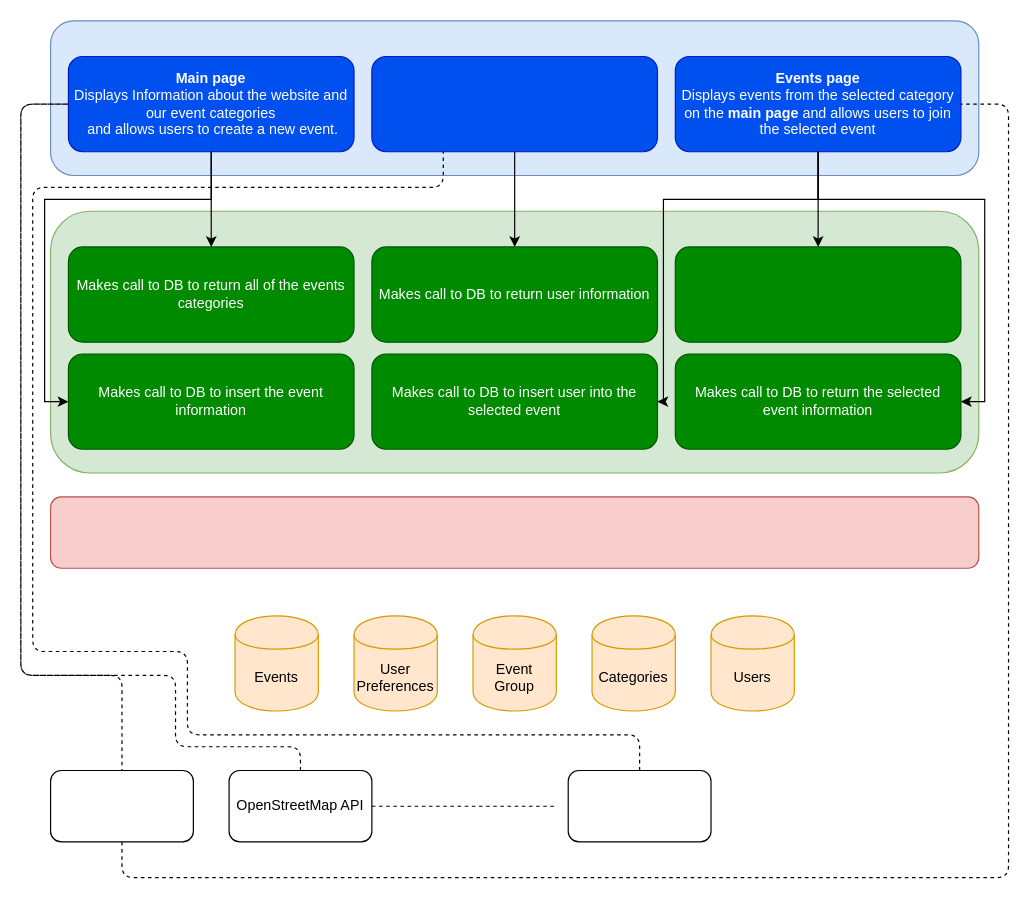
This 1031x900 diagram has some shape labels left out. The box of each missing label's shape, as (x1, y1, x2, y2) in pixels:
Business Logic: (49, 210, 979, 473)
Data Access Layer: (49, 496, 979, 568)
Google Sign API: (567, 769, 711, 842)
Leaflet API: (49, 769, 193, 842)
Makes call to DB to return all events in the category that's selected: (674, 246, 961, 342)
Presentation Layer: (49, 20, 979, 176)
Sign up/Login page Receives and sends user registration information: (371, 55, 657, 152)
